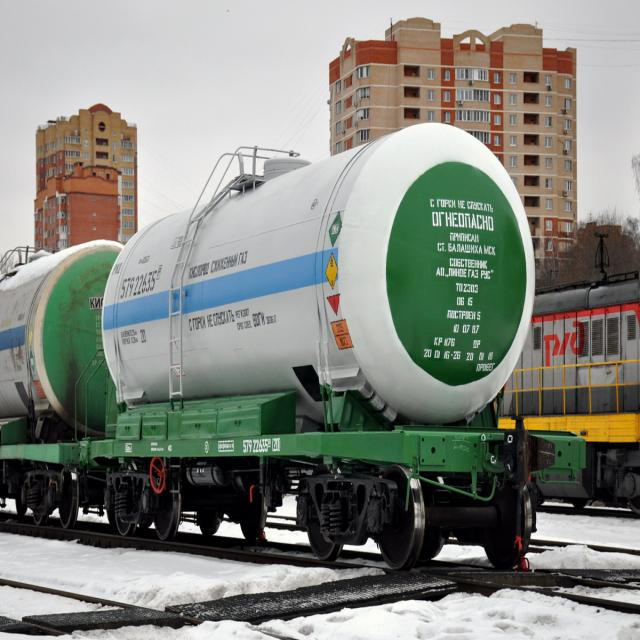locomotive: (499, 234, 640, 523)
tank: (96, 93, 544, 586), (0, 206, 126, 538)
